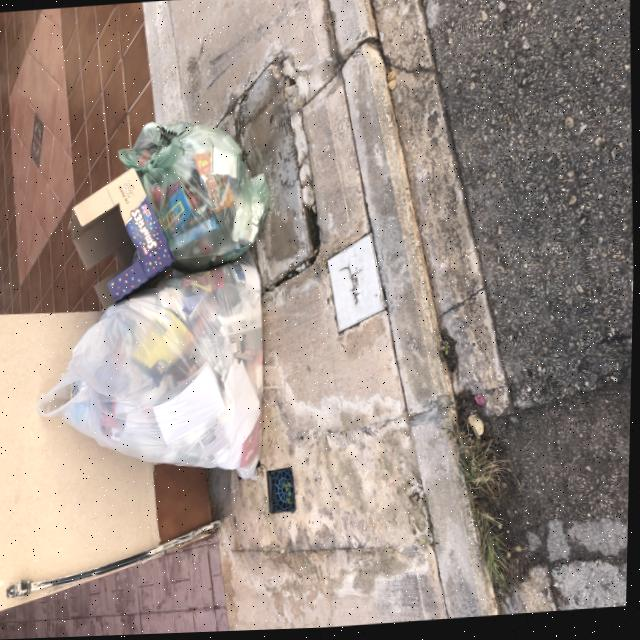Other: (66, 161, 175, 307)
Recycled Waste -Grey or Green Bag-: (35, 247, 276, 505), (113, 105, 279, 285)
